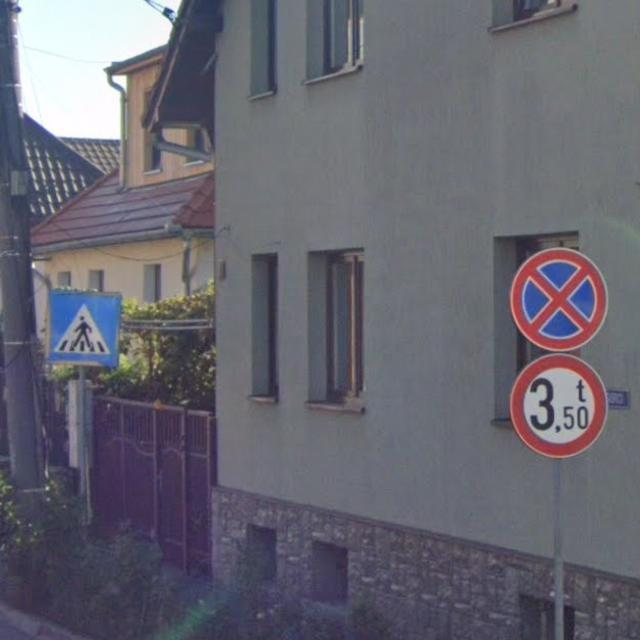forb_waiting: (507, 244, 612, 351)
info_crosswalk: (45, 293, 119, 368)
